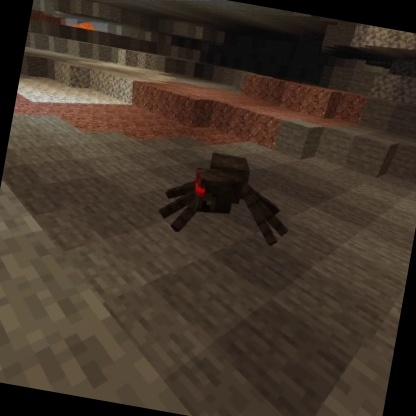spider: (153, 141, 304, 253)
